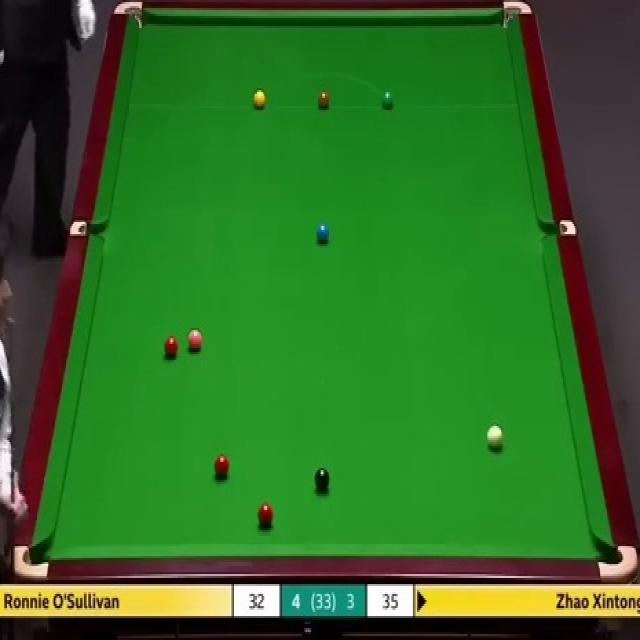pocket: (596, 543, 640, 582), (16, 543, 51, 582), (112, 0, 145, 34), (499, 0, 530, 32), (539, 218, 576, 240), (67, 220, 105, 235)
